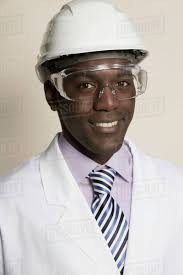Person_wearing_helmet: (34, 0, 146, 99)
